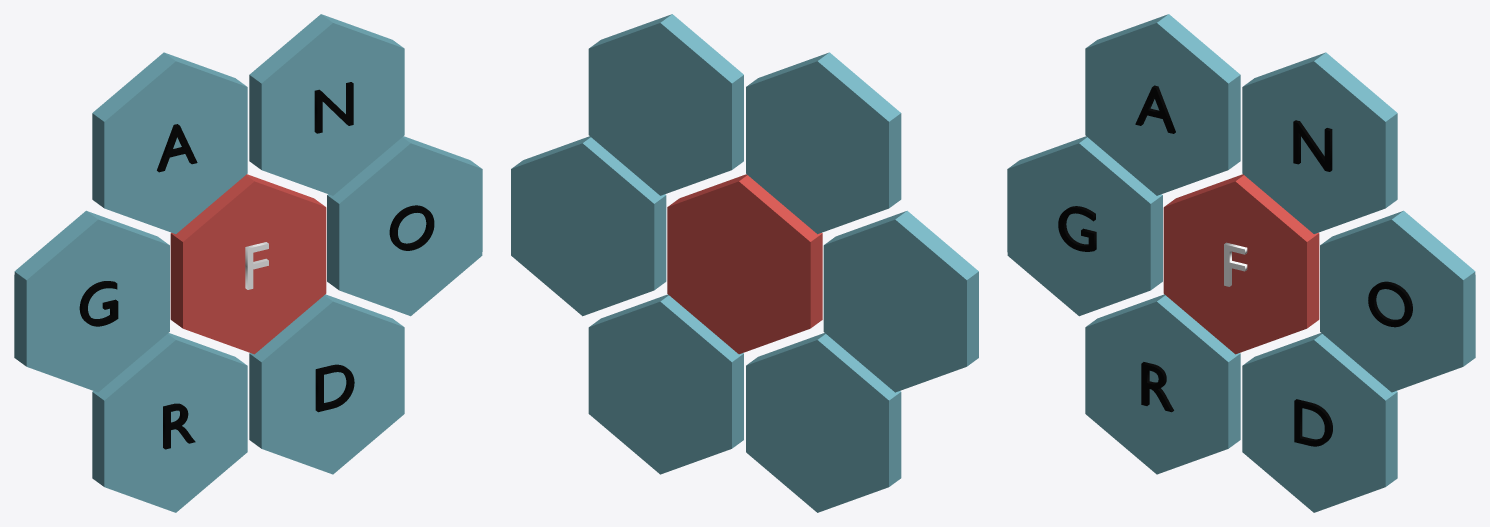
The model's file is paraulogic.gltf.
3 renders of one model, left to right at view 1: azimuth 30°, elevation 25°; view 2: azimuth 150°, elevation 25°; view 3: azimuth 330°, elevation 25°, orthographic.
Visible parts, largest first — view 1: Hexagon 1, Hexagon 6, Hexagon 2, Central, Hexagon 5, Hexagon 4, Hexagon 3, Text.004, Text.005, Text.002, Text, Text.003 (+2 smaller); view 2: Hexagon 2, Hexagon 6, Hexagon 1, Hexagon 4, Central, Hexagon 3, Hexagon 5; view 3: Hexagon 1, Central, Hexagon 3, Hexagon 2, Hexagon 5, Hexagon 6, Hexagon 4, Text.002, Text.004, Text.005, Text, Text.003 (+2 smaller).
Part boxes in pixels (x1,y1,x2,y2): Hexagon 1: (92,52,247,233); Hexagon 6: (14,210,169,392); Hexagon 2: (249,14,404,195); Central: (170,174,326,354); Hexagon 5: (92,333,247,512); Hexagon 4: (249,294,404,474); Hexagon 3: (327,136,482,316); Text.004: (315,364,354,412); Text.005: (389,205,434,250); Text.002: (314,82,353,133); Text: (79,281,118,326); Text.003: (163,403,195,449); Hexagon 2: (588,14,743,195); Hexagon 6: (823,210,978,392); Hexagon 1: (746,52,901,234); Hexagon 4: (588,294,743,474); Central: (667,174,822,354); Hexagon 3: (511,136,666,316); Hexagon 5: (746,333,901,512); Hexagon 1: (1085,14,1240,195); Central: (1163,174,1319,354); Hexagon 3: (1320,210,1475,392); Hexagon 2: (1242,52,1397,233); Hexagon 5: (1085,294,1240,474); Hexagon 6: (1007,136,1162,316); Hexagon 4: (1242,333,1397,512); Text.002: (1293,120,1332,171); Text.004: (1294,399,1332,446); Text.005: (1368,281,1412,327); Text: (1058,206,1096,251); Text.003: (1141,362,1173,412).
Bounding box in the file's own units: 0.777 × 0.7359 × 0.0429.
